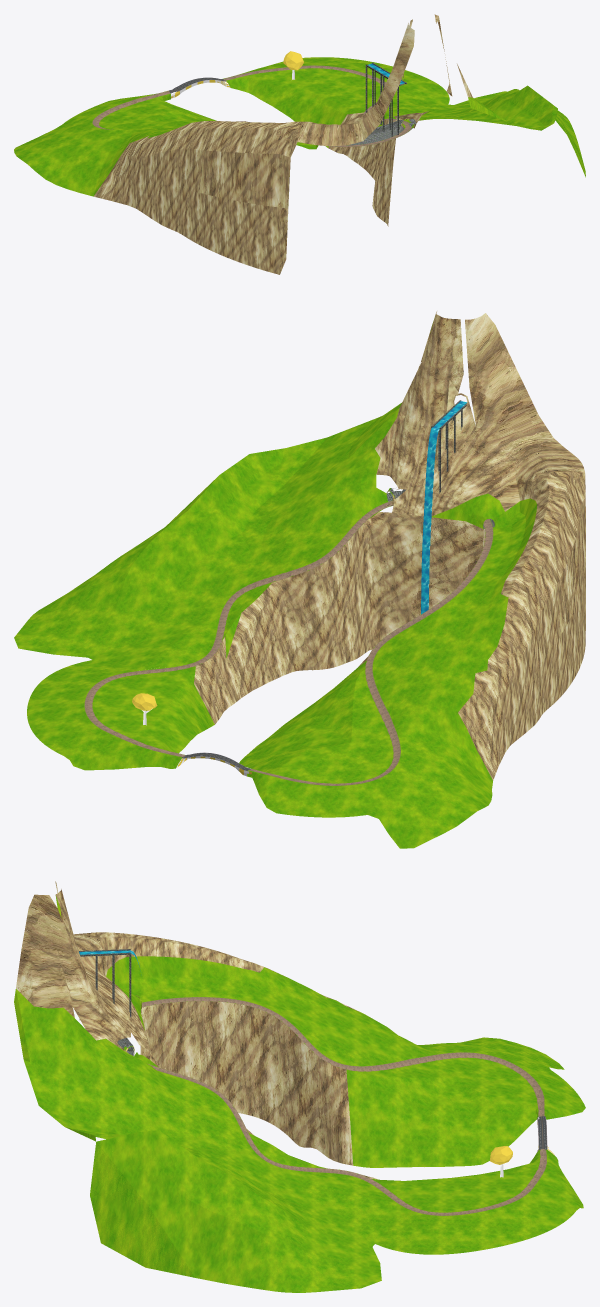
File: seasideharbour.glb
3 views of the same model, one above another, from view 1: azimuth 30°, elevation 25°; view 2: azimuth 150°, elevation 25°; view 3: azimuth 270°, elevation 25° (orthographic). The views are drawn at different scales.
Parts seen in each view (by area): view 1: cliff, Offroad, mountain, Road, aquaduct, tunnel; view 2: Offroad, cliff, mountain, Road, waterfall; view 3: Offroad, cliff, mountain, Road, aquaduct.
Boxes of the visible parts, bbox=[...] form: cliff: bbox=[93, 112, 395, 274]; Offroad: bbox=[14, 57, 585, 196]; mountain: bbox=[297, 14, 472, 145]; Road: bbox=[92, 65, 423, 146]; aquaduct: bbox=[365, 62, 406, 136]; tunnel: bbox=[320, 118, 416, 145]; Offroad: bbox=[14, 318, 537, 848]; cliff: bbox=[194, 472, 585, 780]; mountain: bbox=[375, 311, 584, 516]; Road: bbox=[84, 500, 493, 785]; waterfall: bbox=[421, 401, 466, 614]; Offroad: bbox=[14, 895, 585, 1292]; cliff: bbox=[74, 932, 377, 1179]; mountain: bbox=[16, 881, 149, 1052]; Road: bbox=[142, 997, 546, 1215]; aquaduct: bbox=[79, 949, 131, 1019].
Size of what is drawn, in the model's own units: 1097 by 599 by 1041.
11 materials, 11 textured.
